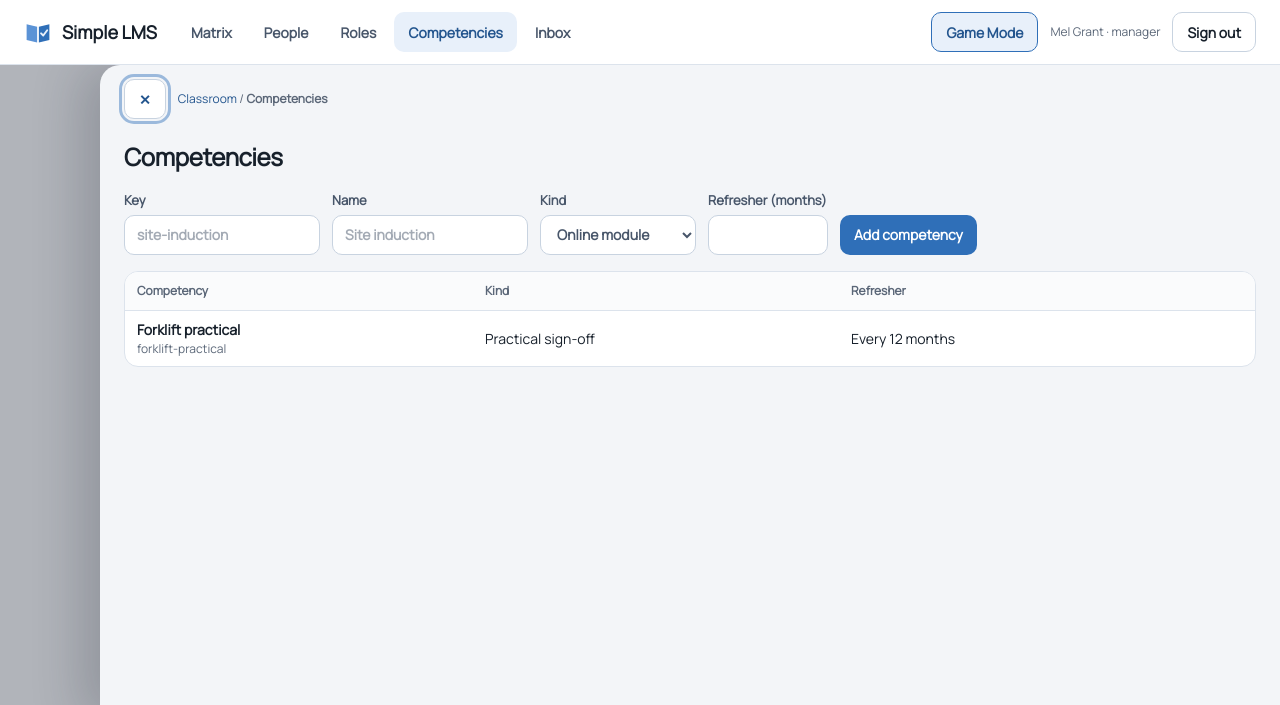
Test: a practical's checklist › shows the one supervisors tick, and publishes the next as a changed copy
Click the button "Forklift practical forklift-practical" at (189, 338), box [137,318,240,358]
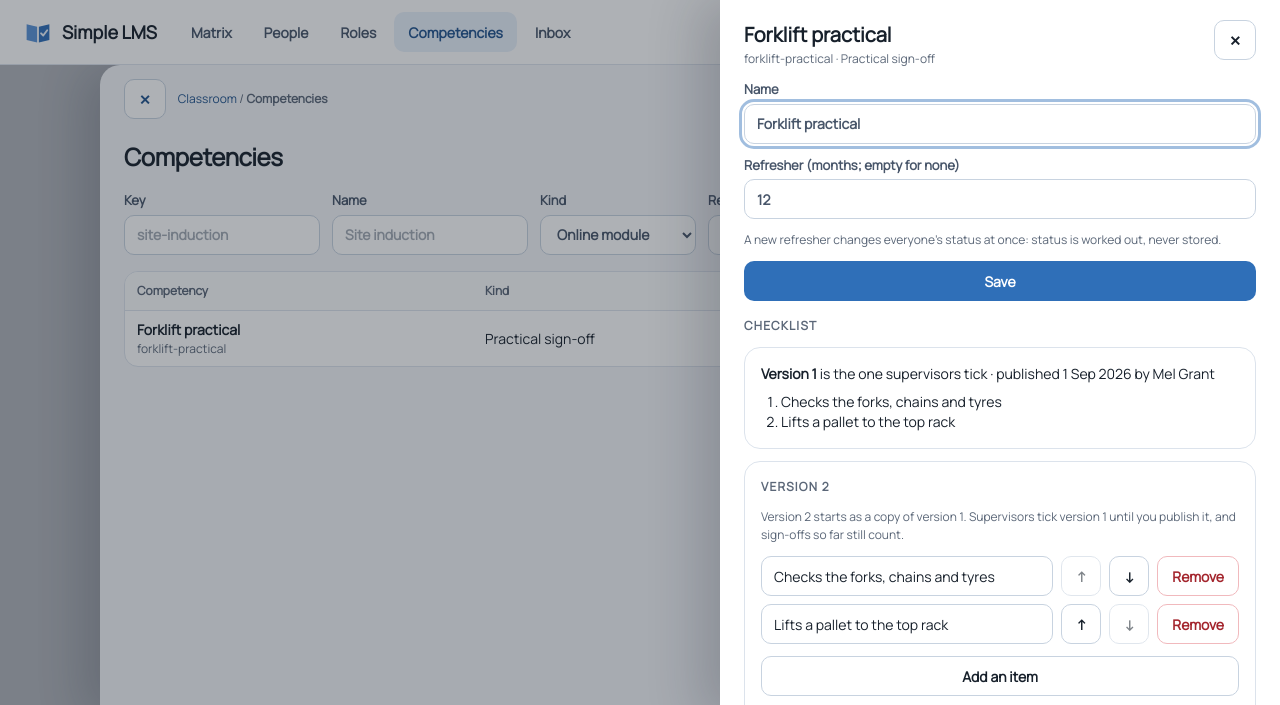
Result: the text "is the one supervisors tick" reads "Version 1 is the one supervisors tick · published 1 Sep 2026 by Mel Grant" at [761,364,1239,384]
Result: the field named "Item 1" holds "Checks the forks, chains and tyres" at [761,556,1054,596]
Click the button "Add an item" at (1000, 676), box [761,656,1239,696]
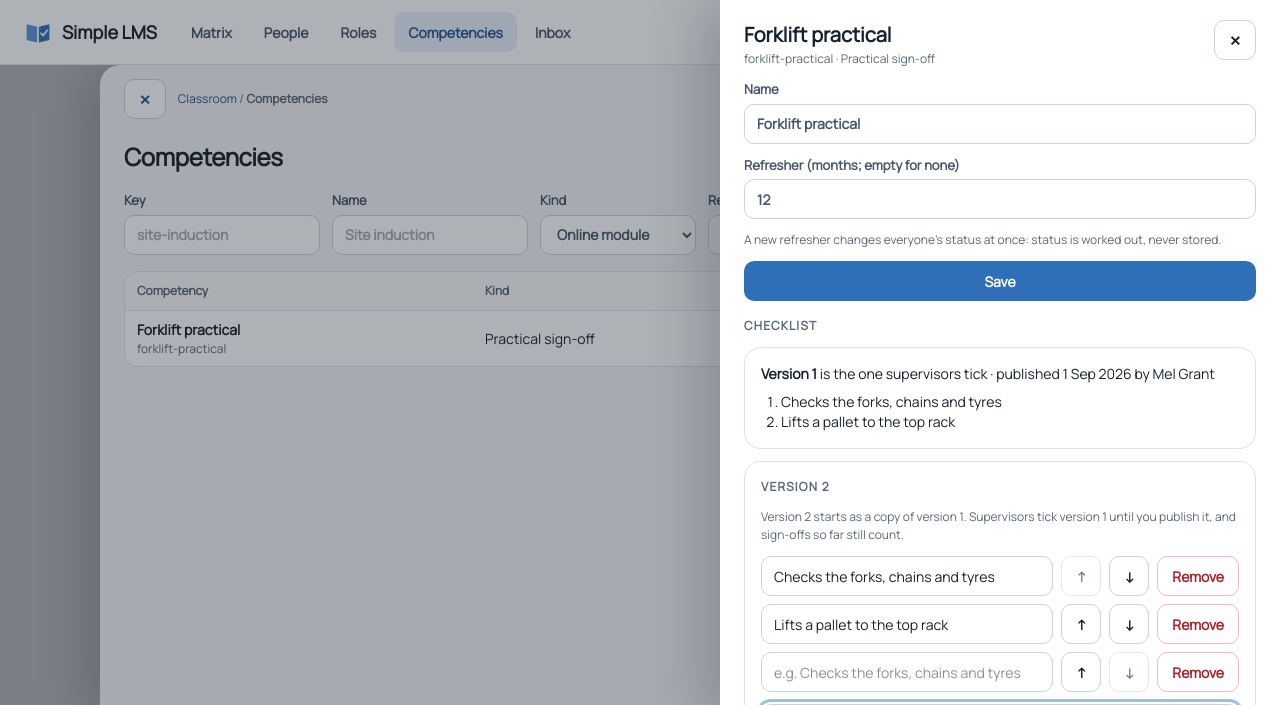
Type "Parks with the forks down" into the field named "Item 3" at (907, 672), box [761,652,1054,692]
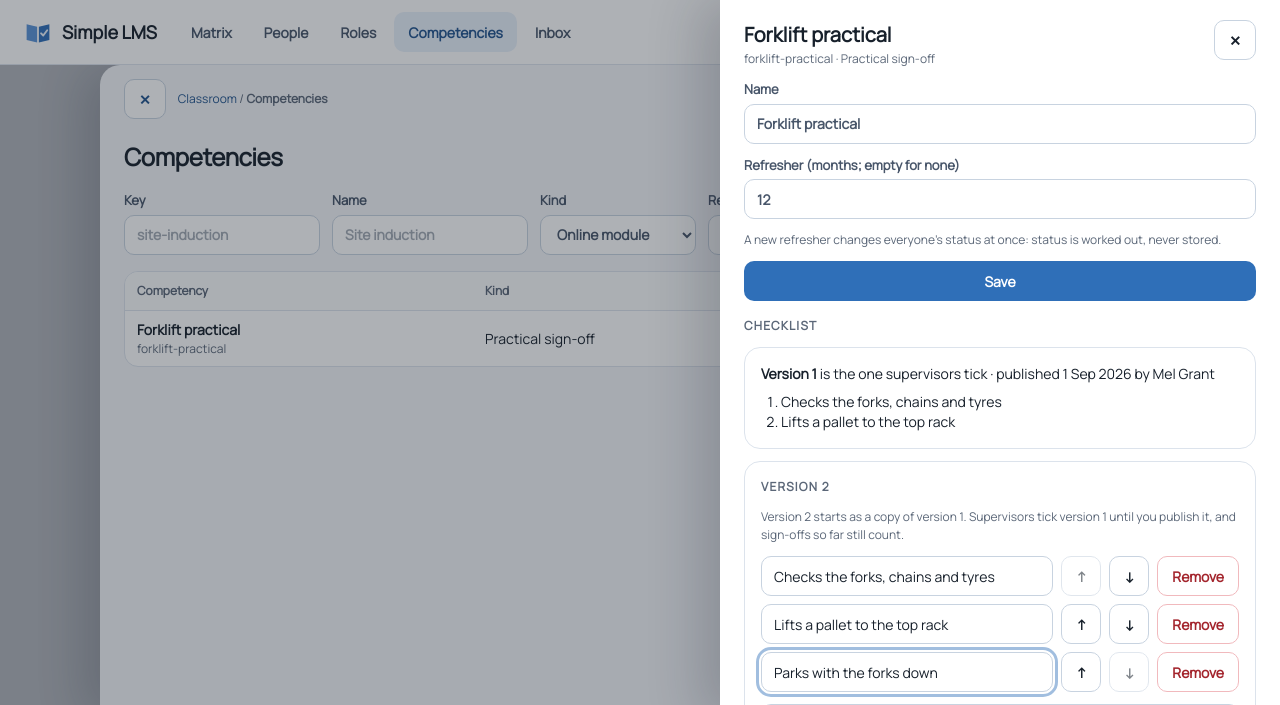
Click the button named "Move item 3 up" at (1081, 672), box [1062,652,1101,692]
(page scrolled)
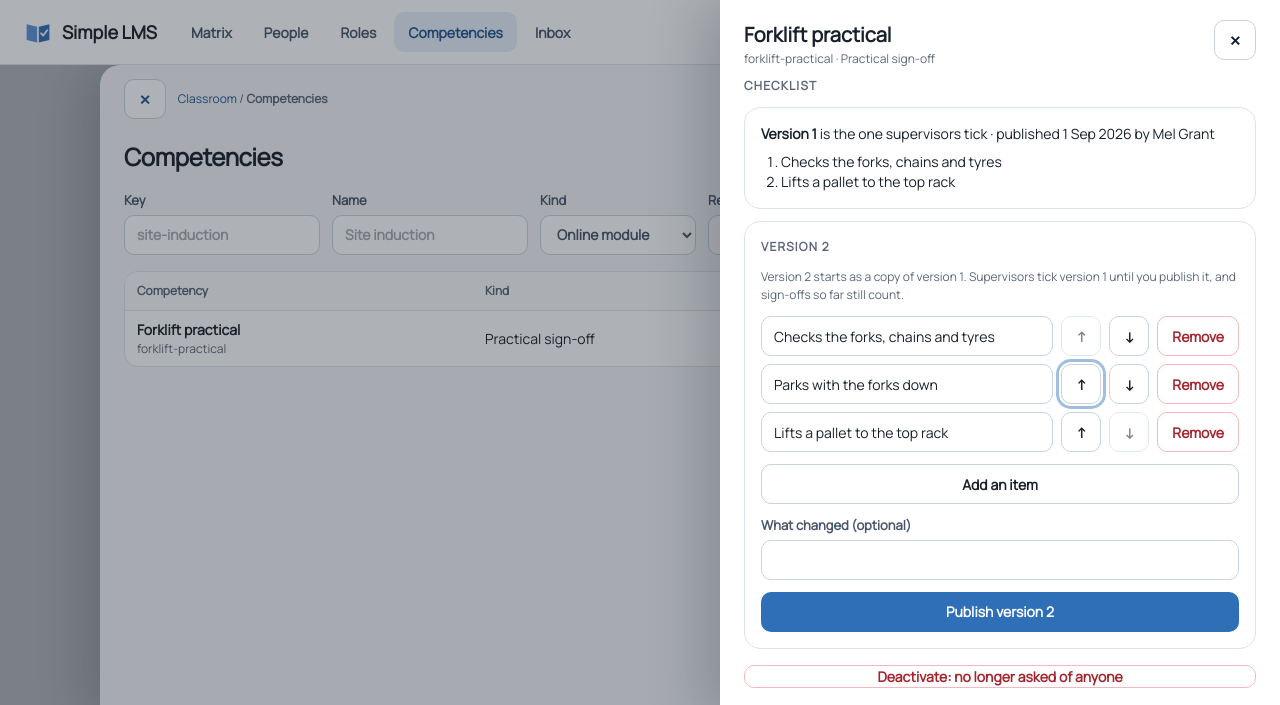
Type "parking" into the field labelled "What changed (optional)" at (1000, 560), box [761,540,1239,580]
Click the button "Publish version 2" at (1000, 612), box [761,592,1239,632]
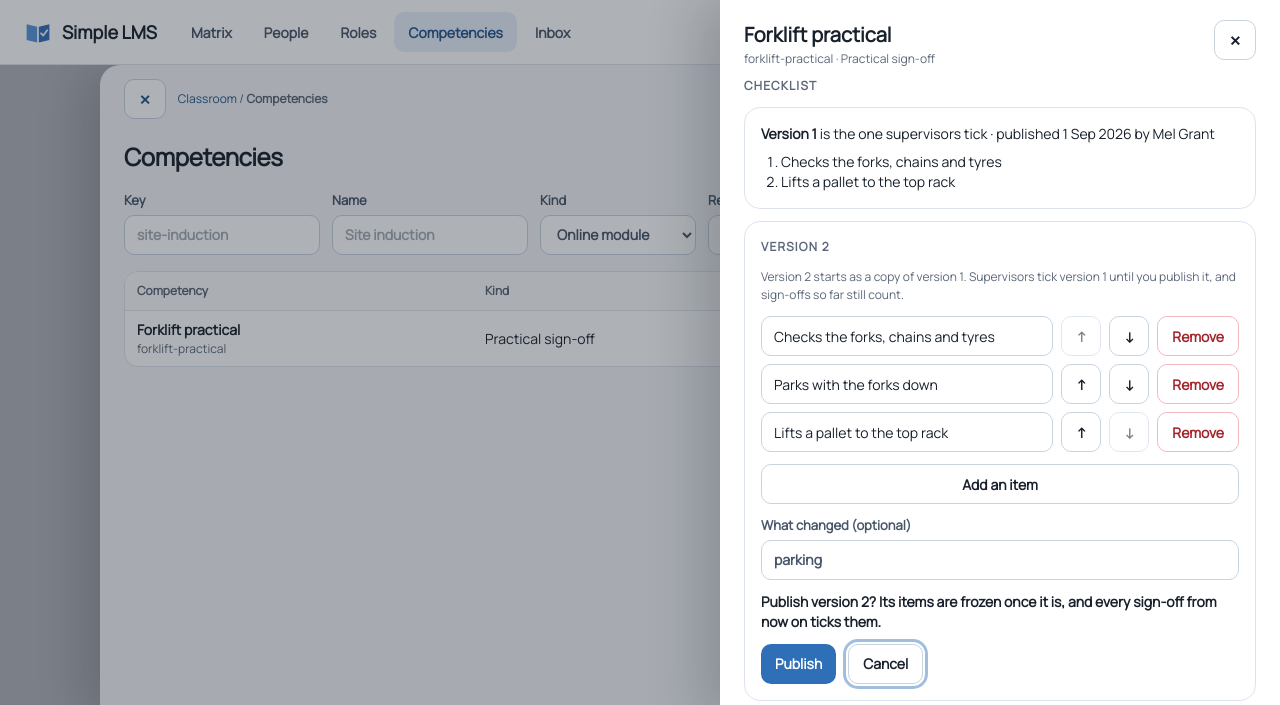
Result: the text "Publish version 2? Its items are frozen once it is, and every sign-off from now on ticks them." is shown at [761,592,1217,630]
Click the button "Publish" at (799, 664), box [761,644,836,684]
(page scrolled)
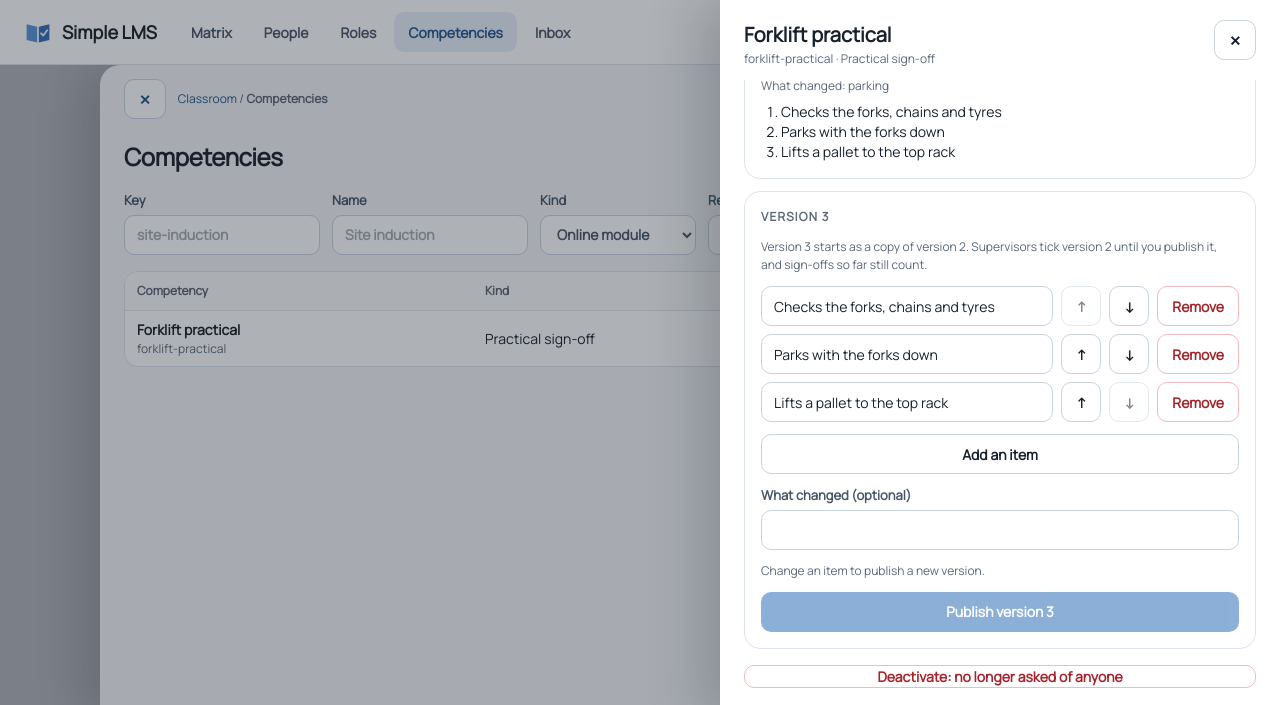
Result: the form "Version 3" is shown at [744,191,1256,649]
